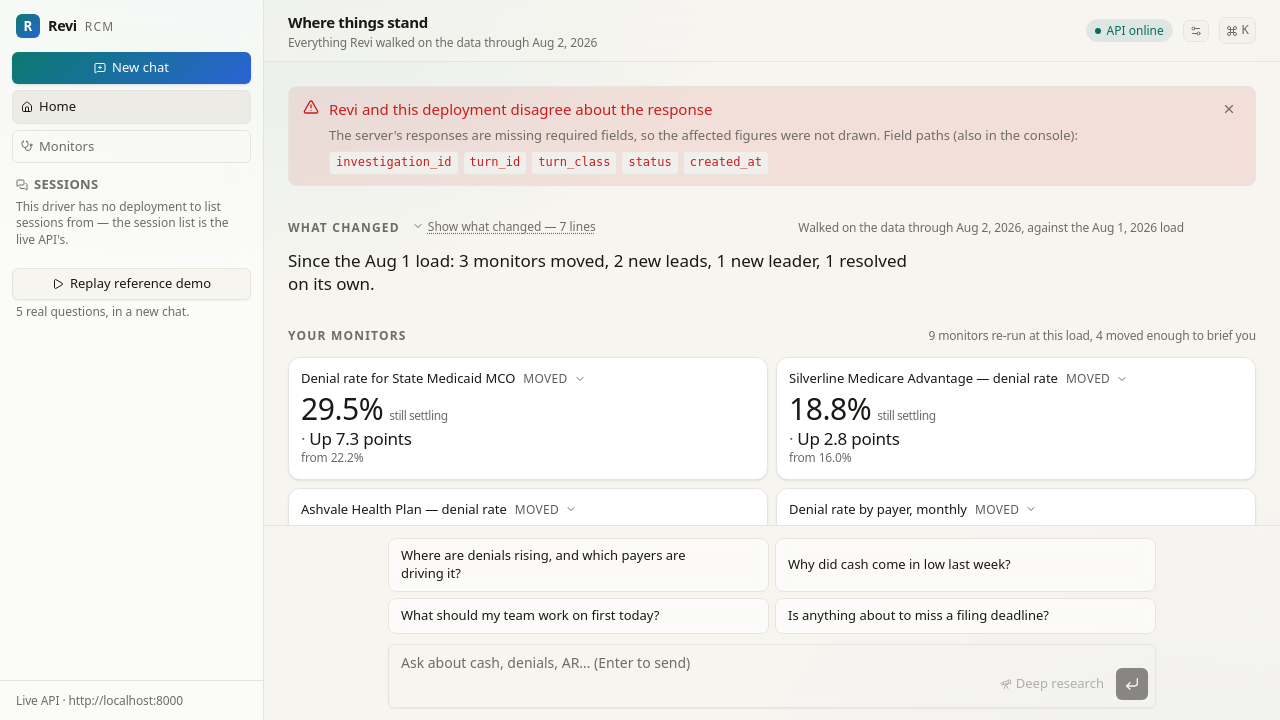
Test: Home — what changed, first and in one line › expands IN PLACE to the brief itself — the same panel Monitors renders
Click the button "Show what changed — 7 lines": (504,226) [412, 218, 596, 235]
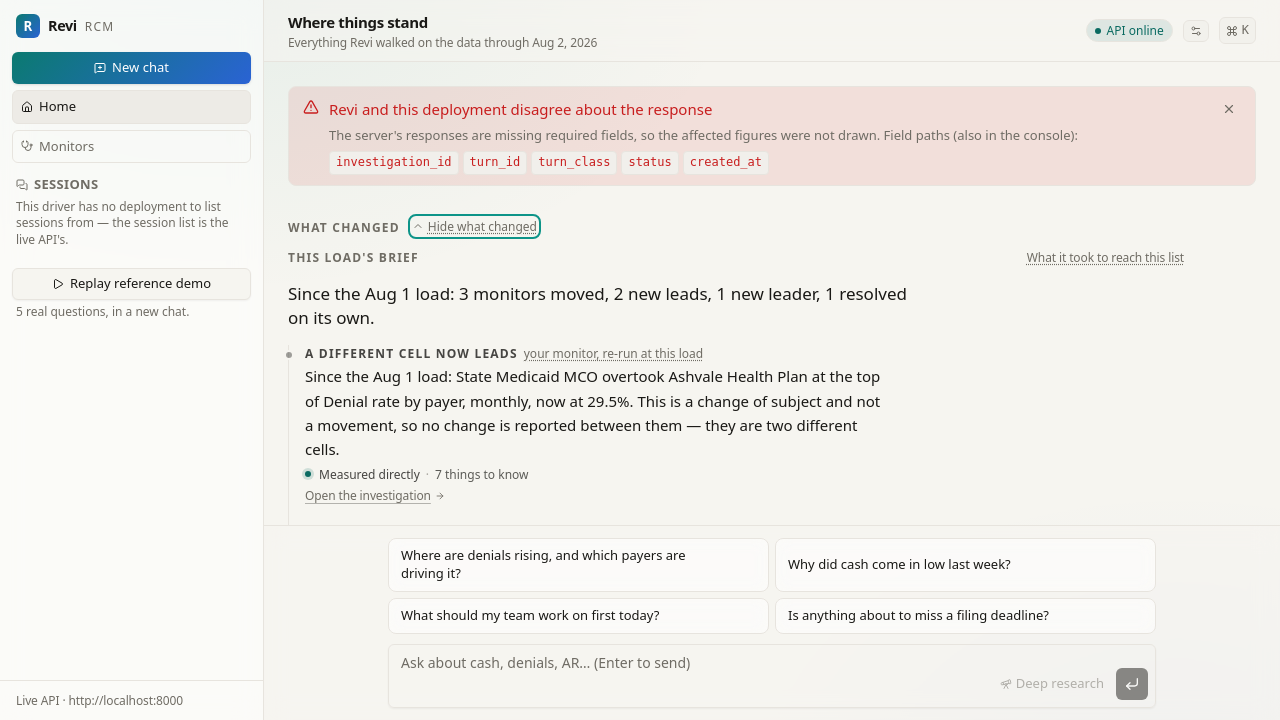
Expected: the text "Since the Aug 1 load: 3 monitors moved, 2 new leads, 1 new leader, 1 resolved on its own." is shown once, [288, 282, 910, 329]
Expected: the button "Hide what changed" is expanded, [412, 218, 537, 235]
